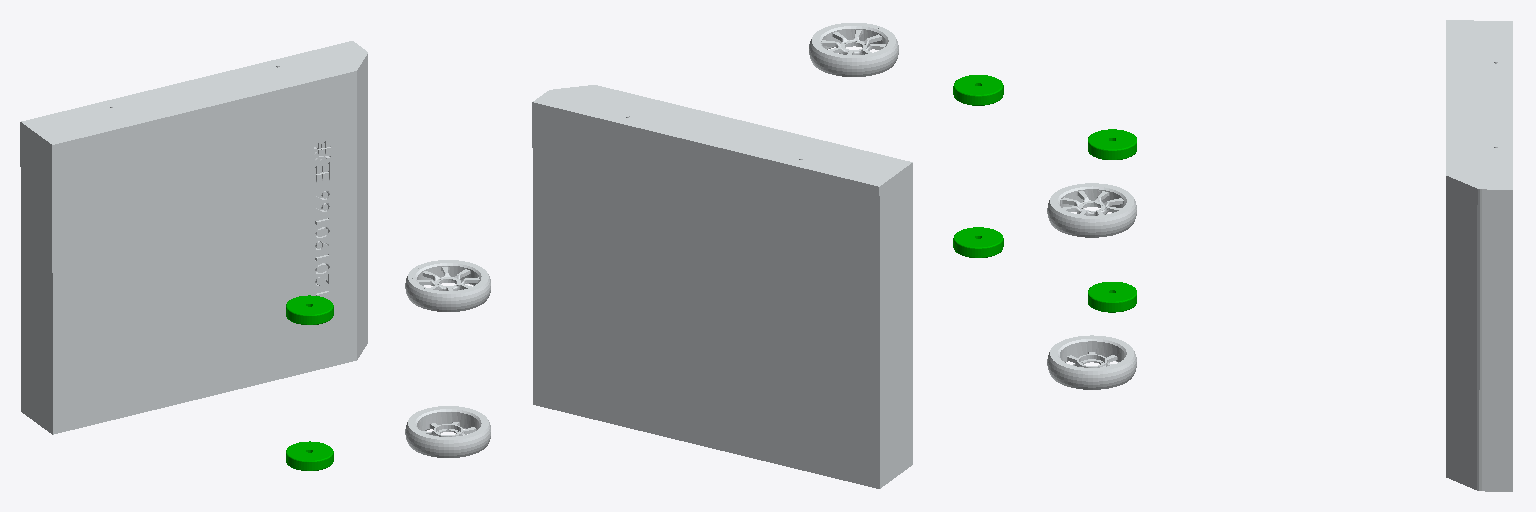
The robot description file, URDF, robot "robot1":
<?xml version="1.0" encoding="utf-8"?>
<!-- This URDF was automatically created by SolidWorks to URDF Exporter! Originally created by [author] ([email redacted]) 
     Commit Version: 1.5.1-0-g916b5db  Build Version: 1.5.7152.31018
     For more information, please see http://wiki.ros.org/sw_urdf_exporter -->
<robot
  name="robot1">

  <link
    name="base_link">
    <inertial>
      <origin
        xyz="0.0 0.0 0.0"
        rpy="0.0 0.0 0.0" />
      <mass
        value="13.0741186850044" />
      <inertia
        ixx="0.7232234550071"
        ixy="0.000383492465641869"
        ixz="0.0385446872426689"
        iyy="0.591137485399987"
        iyz="0.000550293009868074"
        izz="0.235306924279221" />
    </inertial>
    <visual>
      <origin
        xyz="0 0 0"
        rpy="1.57 0 0" />
      <geometry>
        <mesh
          filename="package://robot1/meshes/base_link.STL" />
      </geometry>
      <material
        name="">
        <color
          rgba="0.898039215686275 0.917647058823529 0.929411764705882 1" />
      </material>
    </visual>
    <collision>
      <origin
        xyz="0 0 0"
        rpy="0 0 0" />
      <geometry>
        <mesh
          filename="package://robot1/meshes/base_link.STL" />
      </geometry>
    </collision>
  </link>

  <link
    name="link2">
    <inertial>
      <origin
        xyz="0.000793455564371742 -1.38000610938605E-10 0"
        rpy="0 0 0" />
      <mass
        value="0.287195115520546" />
      <inertia
        ixx="0.000832836907978904"
        ixy="-8.23073534164982E-13"
        ixz="2.93777744088504E-12"
        iyy="0.000437966335601868"
        iyz="1.11612030983185E-12"
        izz="0.00043796632993264" />
    </inertial>
    <visual>
      <origin
        xyz="0 0 0"
        rpy="0 0 0" />
      <geometry>
        <mesh
          filename="package://robot1/meshes/link2.STL" />
      </geometry>
      <material
        name="">
        <color
          rgba="0.898039215686275 0.917647058823529 0.929411764705882 1" />
      </material>
    </visual>
    <collision>
      <origin
        xyz="0 0 0"
        rpy="0 0 0" />
      <geometry>
        <mesh
          filename="package://robot1/meshes/link2.STL" />
      </geometry>
    </collision>
  </link>
  <joint
    name="joint2"
    type="fixed">
    <origin
      xyz="0.108515172692117 -0.630906847071275 -0.126000000000012"
      rpy="3.12733988546294 1.5707963267949 0" />
    <parent
      link="base_link" />
    <child
      link="link2" />
    <axis
      xyz="0 0 0" />
  </joint>


  <link
    name="link1">
    <inertial>
      <origin
        xyz="0.000793455564382262 -1.36789968241402E-10 0"
        rpy="0 0 0" />
      <mass
        value="0.287195115520547" />
      <inertia
        ixx="0.000832836907978905"
        ixy="-8.23069059288156E-13"
        ixz="2.93777429770292E-12"
        iyy="0.000437966335601868"
        iyz="1.11612032550196E-12"
        izz="0.000437966329932641" />
    </inertial>
    <visual>
      <origin
        xyz="0 0 0"
        rpy="0 0 0" />
      <geometry>
        <mesh
          filename="package://robot1/meshes/link1.STL" />
      </geometry>
      <material
        name="">
        <color
          rgba="0.898039215686275 0.917647058823529 0.929411764705882 1" />
      </material>
    </visual>
    <collision>
      <origin
        xyz="0 0 0"
        rpy="0 0 0" />
      <geometry>
        <mesh
          filename="package://robot1/meshes/link1.STL" />
      </geometry>
    </collision>
  </link>
  <joint
    name="joint1"
    type="fixed">
    <origin
      xyz="0.10851517269161 -0.630906847071253 0.126000000000005"
      rpy="1.93411494532062 -1.5707963267949 0" />
    <parent
      link="base_link" />
    <child
      link="link1" />
    <axis
      xyz="0 0 0" />
  </joint>


  <link
    name="link3">
    <inertial>
      <origin
        xyz="5.27633492453106E-13 3.48721052034762E-13 0.0"
        rpy="0 0 0" />
      <mass
        value="0.077086116041362" />
      <inertia
        ixx="2.97268485871719E-05"
        ixy="-8.470329472543E-22"
        ixz="-1.64702594222596E-20"
        iyy="2.97268485871718E-05"
        iyz="-1.0895792779636E-20"
        izz="5.532802779989E-05" />
    </inertial>
    <visual>
      <origin
        xyz="0 0 0"
        rpy="0 0 0" />
      <geometry>
        <mesh
          filename="package://robot1/meshes/link3.STL" />
      </geometry>
      <material
        name="">
        <color
          rgba="0 0.752941176470588 0 1" />
      </material>
    </visual>
    <collision>
      <origin
        xyz="0 0 0"
        rpy="0 0 0" />
      <geometry>
        <mesh
          filename="package://robot1/meshes/link3.STL" />
      </geometry>
    </collision>
  </link>
  <joint
    name="joint3"
    type="fixed">
    <origin
      xyz="-0.124380455217053 -0.600480616011151 0.117000000000001"
      rpy="0 0 2.54661249212372" />
    <parent
      link="base_link" />
    <child
      link="link3" />
    <axis
      xyz="0 0 1" />
  </joint>


  <link
    name="link4">
    <inertial>
      <origin
        xyz="2.86687340533831E-13 1.57207580286922E-13 0.0"
        rpy="0 0 0" />
      <mass
        value="0.077086116041362" />
      <inertia
        ixx="2.97268485871719E-05"
        ixy="2.5410988417629E-21"
        ixz="1.47844140142987E-20"
        iyy="2.97268485871718E-05"
        iyz="-2.4854028217573E-20"
        izz="5.532802779989E-05" />
    </inertial>
    <visual>
      <origin
        xyz="0 0 0"
        rpy="0 0 0" />
      <geometry>
        <mesh
          filename="package://robot1/meshes/link4.STL" />
      </geometry>
      <material
        name="">
        <color
          rgba="0 0.752941176470588 0 1" />
      </material>
    </visual>
    <collision>
      <origin
        xyz="0 0 0"
        rpy="0 0 0" />
      <geometry>
        <mesh
          filename="package://robot1/meshes/link4.STL" />
      </geometry>
    </collision>
  </link>
  <joint
    name="joint4"
    type="fixed">
    <origin
      xyz="-0.124380455217686 -0.600480616011144 -0.135000000000003"
      rpy="0 0 2.54661249212372" />
    <parent
      link="base_link" />
    <child
      link="link4" />
    <axis
      xyz="0 0 0" />
  </joint>
</robot>

--- Facts derived from the render (not from the file) ---
3 views of the same robot in one strip: view 1: azimuth 30°, elevation 25°; view 2: azimuth 150°, elevation 25°; view 3: azimuth 270°, elevation 25° (orthographic).
Model robot1 with 5 links and 4 joints (4 fixed), rooted at base_link, posed all joints at 0.
Visible links, largest first — view 1: base_link, link2, link1, link3, link4; view 2: base_link, link1, link3, link4; view 3: base_link, link1, link2, link3, link4.
Link boxes in pixels (box(x1,y1,x2,y2)): base_link: box(20, 41, 367, 434); link2: box(405, 406, 490, 457); link1: box(405, 260, 490, 311); link3: box(286, 295, 333, 324); link4: box(286, 441, 333, 470); base_link: box(532, 85, 912, 488); link1: box(809, 23, 898, 76); link3: box(953, 75, 1003, 105); link4: box(953, 227, 1003, 257); base_link: box(1446, 20, 1512, 491); link1: box(1047, 183, 1136, 237); link2: box(1047, 335, 1136, 389); link3: box(1088, 129, 1136, 159); link4: box(1088, 282, 1136, 312).
Size in the robot's own frame: 0.6 by 0.6986 by 0.504 metres.
Meshes: 5 distinct files referenced, 5 mesh visuals loaded (5 binary STL).